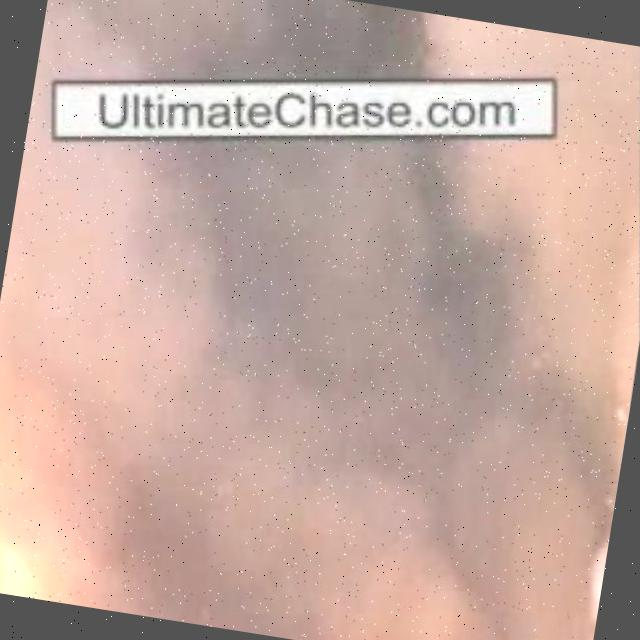fire: (0, 527, 65, 602)
